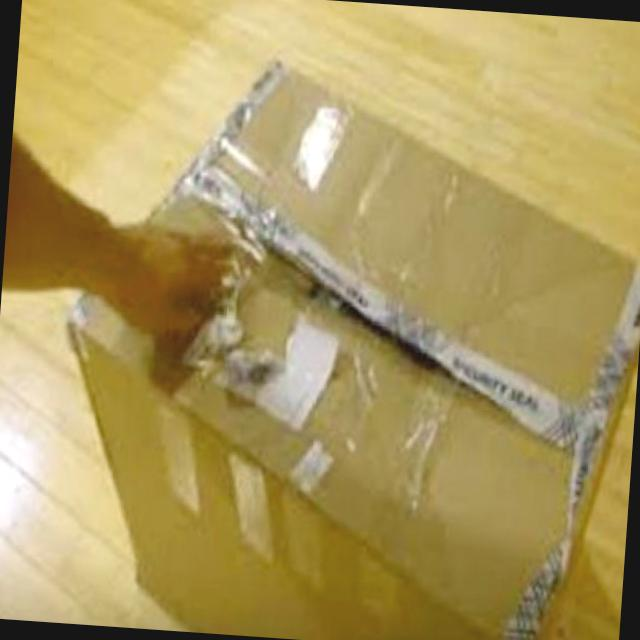box: (41, 33, 640, 640)
